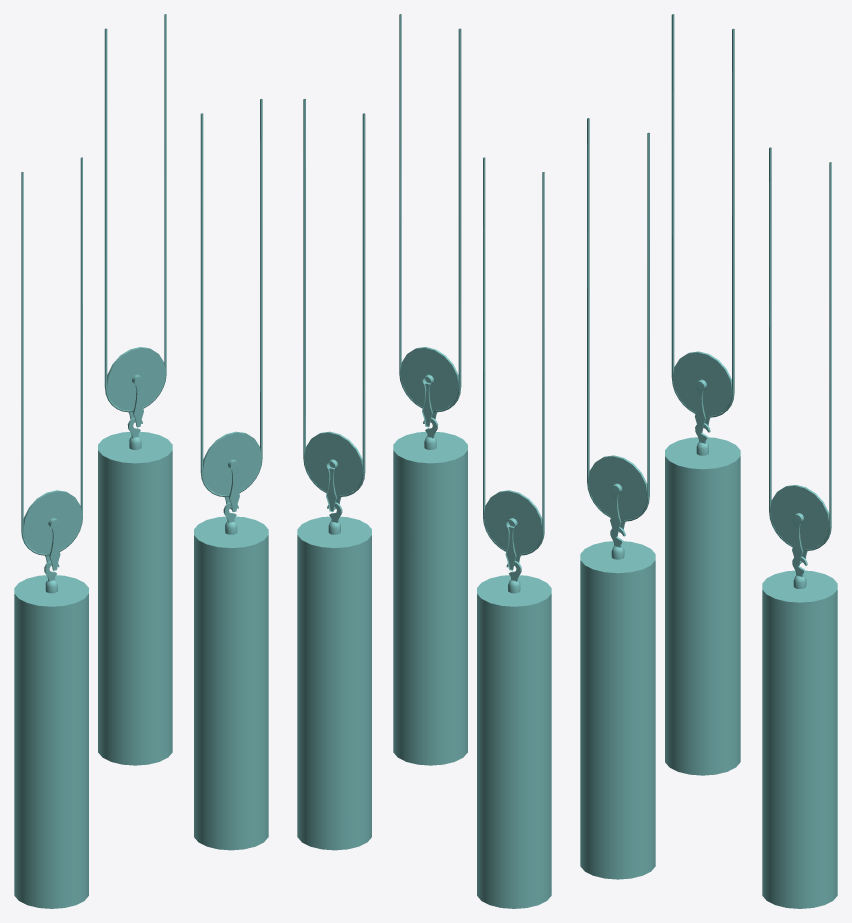
Rendered from SM_GFClock_01b.FBX.
The picture shows the model from 3 angles, left to right: view 1: azimuth 30°, elevation 25°; view 2: azimuth 150°, elevation 25°; view 3: azimuth 330°, elevation 25°; orthographic projection.
Parts seen in each view (by area): view 1: SM_GFClock_01b_SM_GFClock_01b_LOD0; view 2: SM_GFClock_01b_SM_GFClock_01b_LOD0; view 3: SM_GFClock_01b_SM_GFClock_01b_LOD0.
Part boxes in pixels (<box>): SM_GFClock_01b_SM_GFClock_01b_LOD0: <box>14,14,268,908</box>; SM_GFClock_01b_SM_GFClock_01b_LOD0: <box>297,14,551,908</box>; SM_GFClock_01b_SM_GFClock_01b_LOD0: <box>580,14,837,908</box>.
Size of what is drawn, in the model's own units: 20.94 by 69.44 by 5.51.
